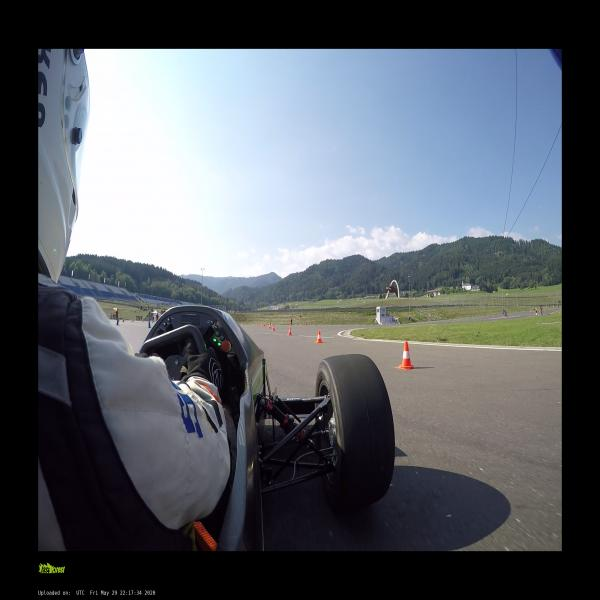orange_cone: (397, 342, 414, 371), (315, 331, 322, 344), (287, 327, 292, 335), (268, 323, 270, 329), (272, 324, 274, 330), (260, 323, 263, 325), (264, 323, 265, 326)
